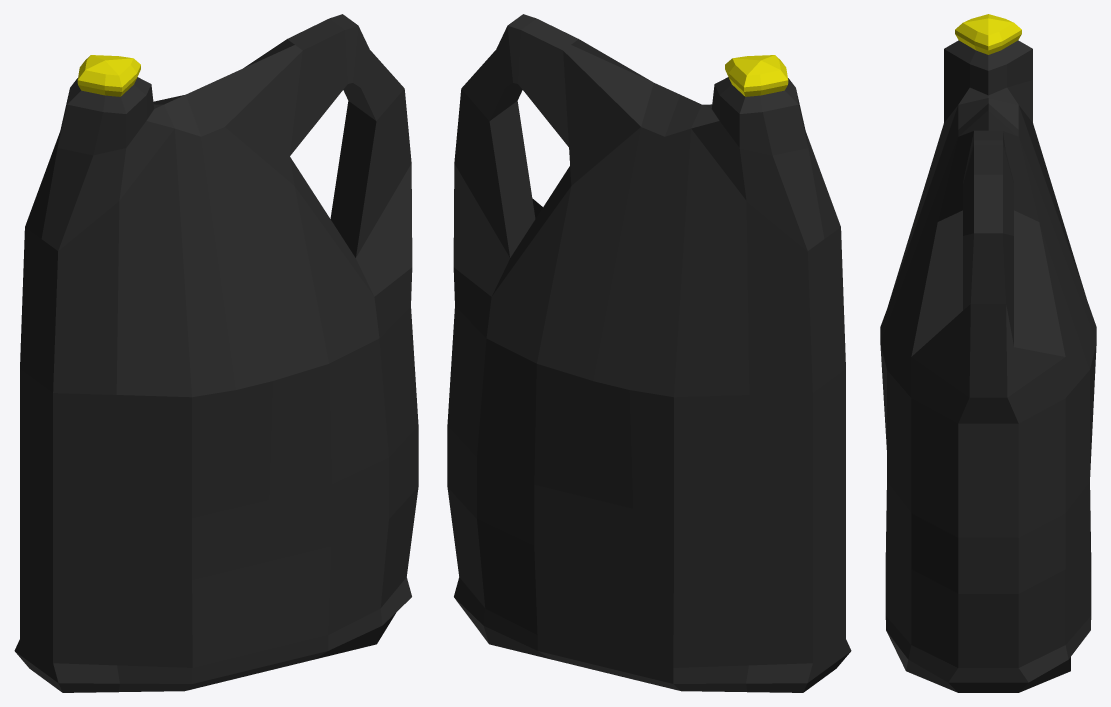
Rendered from EngineOil_Synthetic.fbx.
The picture shows the model from 3 angles, left to right: view 1: azimuth 30°, elevation 25°; view 2: azimuth 150°, elevation 25°; view 3: azimuth 270°, elevation 25°; orthographic projection. The views are drawn at different scales.
Parts seen in each view (by area): view 1: pCube2; view 2: pCube2; view 3: pCube2.
Part boxes in pixels (x1,y1,x2,y2): pCube2: (14,14,418,692); pCube2: (447,14,851,692); pCube2: (880,14,1096,692).
Size of the model in its own units: 11.93 by 18.9 by 6.71.
